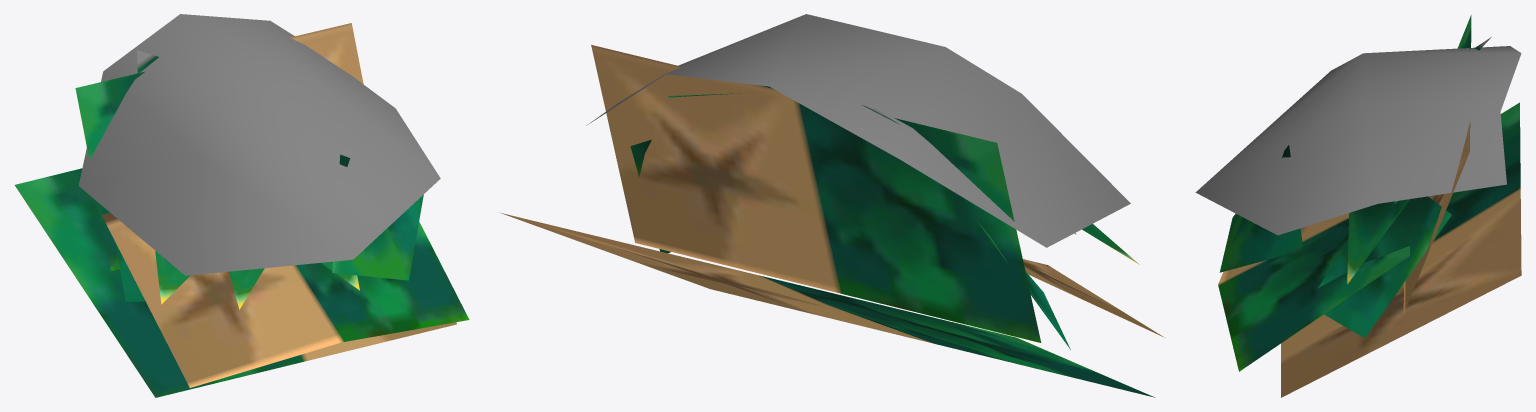
The model's file is fg_bushC_2_s.dae.
The picture shows the model from 3 angles, left to right: view 1: azimuth 30°, elevation 25°; view 2: azimuth 150°, elevation 25°; view 3: azimuth 270°, elevation 25°; orthographic projection. The views are drawn at different scales.
Parts seen in each view (by area): view 1: fg_bushC_2_s; view 2: fg_bushC_2_s; view 3: fg_bushC_2_s.
Part boxes in pixels (x1,y1,x2,y2): fg_bushC_2_s: (14,14,469,397); fg_bushC_2_s: (501,14,1164,397); fg_bushC_2_s: (1195,15,1521,397).
Bounding box in the file's own units: 47.83 × 34.27 × 38.04.
1 material, 1 textured.
